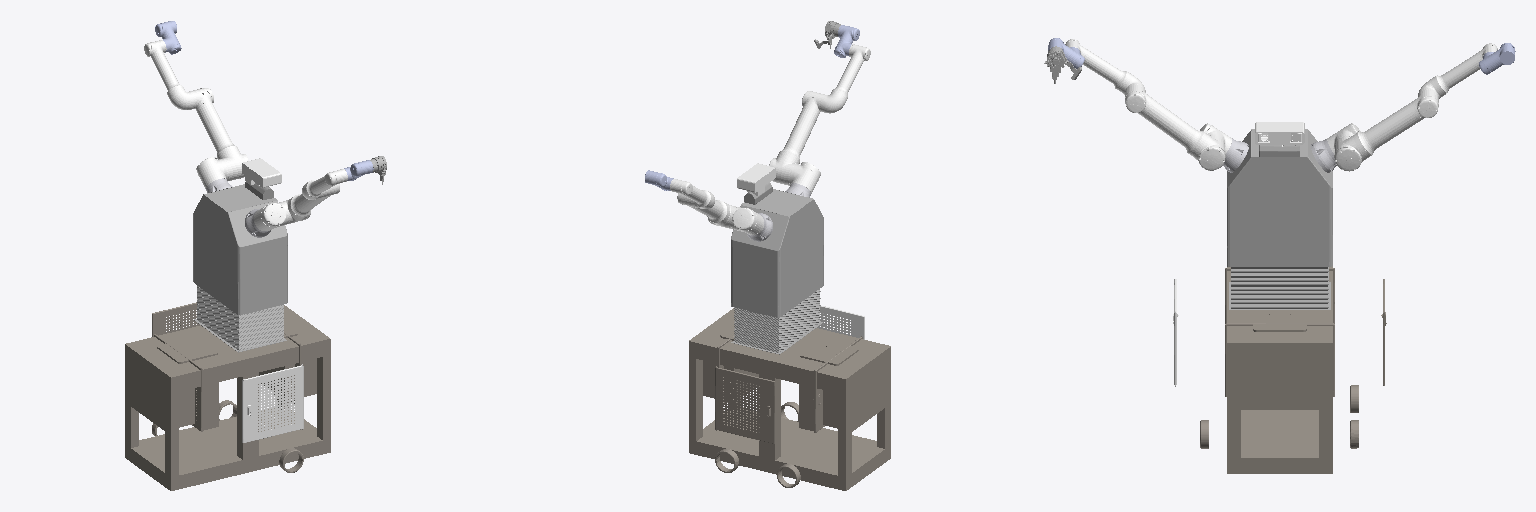
--- Facts derived from the render (not from the file) ---
3 views of the same robot in one strip: view 1: azimuth 30°, elevation 25°; view 2: azimuth 150°, elevation 25°; view 3: azimuth 270°, elevation 25° (orthographic).
Robot: dual_arm_agv — 31 links, 30 joints (17 revolute, 4 continuous, 1 prismatic, 8 fixed); root link base_link; default pose: all joints at 0.
Visible links, largest first — view 1: base_link, rl_Link, D90_Link, rr51_2_Link, rr51_3_Link, D70_Link, ca53_1_Link, lr52_2_Link, lr52_1_Link, lr52_3_Link, rr51_1_Link; view 2: base_link, rl_Link, D70_Link, lr52_2_Link, lr52_3_Link, D90_Link, ca53_1_Link, rr51_2_Link, rr51_1_Link, rr51_3_Link, lr52_1_Link, D80_Link; view 3: base_link, rl_Link, rr51_2_Link, lr52_2_Link, ca53_1_Link, rr51_3_Link, lr52_3_Link, lr52_6_Link, rr_Link, lr_Link.
Link boxes in pixels (bbox=[...]): base_link: bbox=[125, 305, 330, 490]; rl_Link: bbox=[193, 184, 287, 352]; D90_Link: bbox=[242, 364, 303, 442]; rr51_2_Link: bbox=[189, 88, 248, 180]; rr51_3_Link: bbox=[144, 40, 194, 109]; D70_Link: bbox=[152, 302, 199, 336]; ca53_1_Link: bbox=[242, 158, 281, 187]; lr52_2_Link: bbox=[279, 184, 339, 224]; lr52_1_Link: bbox=[254, 203, 287, 230]; lr52_3_Link: bbox=[302, 169, 347, 199]; rr51_1_Link: bbox=[196, 157, 228, 188]; base_link: bbox=[689, 308, 890, 490]; rl_Link: bbox=[731, 189, 823, 354]; D70_Link: bbox=[715, 366, 775, 443]; lr52_2_Link: bbox=[769, 91, 824, 185]; lr52_3_Link: bbox=[821, 44, 870, 113]; D90_Link: bbox=[817, 306, 864, 339]; ca53_1_Link: bbox=[737, 163, 775, 195]; rr51_2_Link: bbox=[677, 193, 736, 228]; rr51_1_Link: bbox=[731, 207, 763, 234]; rr51_3_Link: bbox=[670, 179, 714, 208]; lr52_1_Link: bbox=[789, 162, 820, 193]; D80_Link: bbox=[813, 336, 862, 432]; base_link: bbox=[1227, 266, 1332, 473]; rl_Link: bbox=[1227, 129, 1332, 309]; rr51_2_Link: bbox=[1334, 89, 1438, 171]; lr52_2_Link: bbox=[1125, 84, 1225, 170]; ca53_1_Link: bbox=[1255, 122, 1304, 146]; rr51_3_Link: bbox=[1418, 43, 1497, 98]; lr52_3_Link: bbox=[1065, 39, 1145, 94]; lr52_6_Link: bbox=[1044, 46, 1081, 83]; rr_Link: bbox=[1311, 139, 1336, 172]; lr_Link: bbox=[1223, 138, 1248, 172].
Bounding box of the posed robot: 1.2 × 2.66 × 2.56 m (x, y, z).
Meshes: 31 distinct files referenced, 24 mesh visuals loaded (24 binary STL); not drawn: 7 (reference not matched to a file when rendering).

URDF robot description (dual_arm_agv):
<?xml version="1.0" encoding="utf-8"?>
<!-- This URDF was automatically created by SolidWorks to URDF Exporter! Originally created by Stephen Brawner ([email redacted]) 
     Commit Version: 1.6.0-4-g7f85cfe  Build Version: 1.6.7995.38578
     For more information, please see http://wiki.ros.org/sw_urdf_exporter -->
<robot
  name="dual_arm_agv">
  <link
    name="base_link">
    <inertial>
      <origin
        xyz="-0.0546434634490409 -0.140926041721454 0.549786025749115"
        rpy="0 0 0" />
      <mass
        value="1175.8826301421" />
      <inertia
        ixx="50.0652985565659"
        ixy="-0.107488085580717"
        ixz="0.0875394642945228"
        iyy="34.5212318251515"
        iyz="0.0585357722931229"
        izz="55.6039256873972" />
    </inertial>
    <visual>
      <origin
        xyz="0 0 0"
        rpy="0 0 0" />
      <geometry>
        <mesh
          filename="package://dual_arm_agv/meshes/base_link.STL" />
      </geometry>
      <material
        name="">
        <color
          rgba="0.647058823529412 0.619607843137255 0.588235294117647 1" />
      </material>
    </visual>
    <collision>
      <origin
        xyz="0 0 0"
        rpy="0 0 0" />
      <geometry>
        <mesh
          filename="package://dual_arm_agv/meshes/base_link.STL" />
      </geometry>
    </collision>
  </link>
  <link
    name="lfu_Link">
    <inertial>
      <origin
        xyz="-0.010115 -0.014553 -0.084051"
        rpy="0 0 0" />
      <mass
        value="31.912" />
      <inertia
        ixx="0.050361"
        ixy="0.00070481"
        ixz="7.2613E-06"
        iyy="0.06568"
        iyz="-5.5391E-05"
        izz="0.070542" />
    </inertial>
    <visual>
      <origin
        xyz="0 0 0"
        rpy="0 0 0" />
      <geometry>
        <mesh
          filename="package://dual_arm_agv/meshes/lfu_Link.STL" />
      </geometry>
      <material
        name="">
        <color
          rgba="0.64706 0.61961 0.58824 1" />
      </material>
    </visual>
    <collision>
      <origin
        xyz="0 0 0"
        rpy="0 0 0" />
      <geometry>
        <mesh
          filename="package://dual_arm_agv/meshes/lfu_Link.STL" />
      </geometry>
    </collision>
  </link>
  <joint
    name="lfu_joint"
    type="revolute">
    <origin
      xyz="0.235 -0.424 0.1895"
      rpy="0 0 0" />
    <parent
      link="base_link" />
    <child
      link="lfu_Link" />
    <axis
      xyz="0 0 1" />
    <limit
      lower="0"
      upper="1.57"
      effort="200"
      velocity="2" />
  </joint>
  <link
    name="lfd_Link">
    <inertial>
      <origin
        xyz="-9.99200722162641E-16 -3.60267371490863E-14 2.41473507855972E-15"
        rpy="0 0 0" />
      <mass
        value="2.27437869372106" />
      <inertia
        ixx="0.00667217333183963"
        ixy="8.44588831684433E-17"
        ixz="-3.51234122980116E-19"
        iyy="0.0124275466946376"
        iyz="-2.20233879862675E-18"
        izz="0.00667217333183963" />
    </inertial>
    <visual>
      <origin
        xyz="0 0 0"
        rpy="0 0 0" />
      <geometry>
        <mesh
          filename="package://dual_arm_agv/meshes/lfd_Link.STL" />
      </geometry>
      <material
        name="">
        <color
          rgba="0.647058823529412 0.619607843137255 0.588235294117647 1" />
      </material>
    </visual>
    <collision>
      <origin
        xyz="0 0 0"
        rpy="0 0 0" />
      <geometry>
        <mesh
          filename="package://dual_arm_agv/meshes/lfd_Link.STL" />
      </geometry>
    </collision>
  </link>
  <joint
    name="lfd_joint"
    type="continuous">
    <origin
      xyz="0 0 -0.112"
      rpy="0 0 0" />
    <parent
      link="lfu_Link" />
    <child
      link="lfd_Link" />
    <axis
      xyz="0 1 0" />
    <limit
      lower="100000"
      upper="-100000"
      effort="200"
      velocity="2" />
  </joint>
  <link
    name="lbu_Link">
    <inertial>
      <origin
        xyz="0.0101145407284515 0.0145528089723998 -0.0845514626141467"
        rpy="0 0 0" />
      <mass
        value="31.9115144089676" />
      <inertia
        ixx="0.0503611728601749"
        ixy="0.000704812025816372"
        ixz="-7.26128769723982E-06"
        iyy="0.065680340100723"
        iyz="5.53905773361375E-05"
        izz="0.0705417283250844" />
    </inertial>
    <visual>
      <origin
        xyz="0 0 0"
        rpy="0 0 0" />
      <geometry>
        <mesh
          filename="package://dual_arm_agv/meshes/lbu_Link.STL" />
      </geometry>
      <material
        name="">
        <color
          rgba="0.647058823529412 0.619607843137255 0.588235294117647 1" />
      </material>
    </visual>
    <collision>
      <origin
        xyz="0 0 0"
        rpy="0 0 0" />
      <geometry>
        <mesh
          filename="package://dual_arm_agv/meshes/lbu_Link.STL" />
      </geometry>
    </collision>
  </link>
  <joint
    name="lbu_joint"
    type="revolute">
    <origin
      xyz="-0.23499999999994 -0.423999999999996 0.189999999999993"
      rpy="0 0 0" />
    <parent
      link="base_link" />
    <child
      link="lbu_Link" />
    <axis
      xyz="0 0 1" />
    <limit
      lower="-1.57"
      upper="0"
      effort="200"
      velocity="2" />
  </joint>
  <link
    name="lbd_Link">
    <inertial>
      <origin
        xyz="2.91433543964104E-15 4.13002965160558E-14 2.26207941267376E-15"
        rpy="0 0 0" />
      <mass
        value="2.27437869372106" />
      <inertia
        ixx="0.00667217333183963"
        ixy="-5.56023405418499E-16"
        ixz="2.00899450894819E-18"
        iyy="0.0124275466946376"
        iyz="-3.97885499432362E-16"
        izz="0.00667217333183963" />
    </inertial>
    <visual>
      <origin
        xyz="0 0 0"
        rpy="0 0 0" />
      <geometry>
        <mesh
          filename="package://dual_arm_agv/meshes/lbd_Link.STL" />
      </geometry>
      <material
        name="">
        <color
          rgba="0.647058823529412 0.619607843137255 0.588235294117647 1" />
      </material>
    </visual>
    <collision>
      <origin
        xyz="0 0 0"
        rpy="0 0 0" />
      <geometry>
        <mesh
          filename="package://dual_arm_agv/meshes/lbd_Link.STL" />
      </geometry>
    </collision>
  </link>
  <joint
    name="lbd_joint"
    type="continuous">
    <origin
      xyz="0 0 -0.112500000000002"
      rpy="0 0 0" />
    <parent
      link="lbu_Link" />
    <child
      link="lbd_Link" />
    <axis
      xyz="0 -1 0" />
    <limit
      lower="100000"
      upper="-100000"
      effort="200"
      velocity="2" />
  </joint>
  <link
    name="rfu_Link">
    <inertial>
      <origin
        xyz="-0.0101145407285348 -0.0145528089723641 -0.084051462614141"
        rpy="0 0 0" />
      <mass
        value="31.9115144089675" />
      <inertia
        ixx="0.050361172860175"
        ixy="0.00070481202581808"
        ixz="7.26128770039667E-06"
        iyy="0.0656803401007229"
        iyz="-5.53905773355691E-05"
        izz="0.0705417283250845" />
    </inertial>
    <visual>
      <origin
        xyz="0 0 0"
        rpy="0 0 0" />
      <geometry>
        <mesh
          filename="package://dual_arm_agv/meshes/rfu_Link.STL" />
      </geometry>
      <material
        name="">
        <color
          rgba="0.647058823529412 0.619607843137255 0.588235294117647 1" />
      </material>
    </visual>
    <collision>
      <origin
        xyz="0 0 0"
        rpy="0 0 0" />
      <geometry>
        <mesh
          filename="package://dual_arm_agv/meshes/rfu_Link.STL" />
      </geometry>
    </collision>
  </link>
  <joint
    name="rfu_joint"
    type="revolute">
    <origin
      xyz="0.235000000000055 0.423999999999963 0.189499999999998"
      rpy="0 0 0" />
    <parent
      link="base_link" />
    <child
      link="rfu_Link" />
    <axis
      xyz="0 0 1" />
    <limit
      lower="0"
      upper="1.57"
      effort="200"
      velocity="2" />
  </joint>
  <link
    name="rfd_Link">
    <inertial>
      <origin
        xyz="-9.99200722162641E-16 -4.39093206239249E-14 4.13558076672871E-15"
        rpy="0 0 0" />
      <mass
        value="2.27437869372106" />
      <inertia
        ixx="0.00667217333183963"
        ixy="8.27714542196001E-17"
        ixz="6.16253967979071E-19"
        iyy="0.0124275466946376"
        iyz="-4.04094379555745E-16"
        izz="0.00667217333183963" />
    </inertial>
    <visual>
      <origin
        xyz="0 0 0"
        rpy="0 0 0" />
      <geometry>
        <mesh
          filename="package://dual_arm_agv/meshes/rfd_Link.STL" />
      </geometry>
      <material
        name="">
        <color
          rgba="0.647058823529412 0.619607843137255 0.588235294117647 1" />
      </material>
    </visual>
    <collision>
      <origin
        xyz="0 0 0"
        rpy="0 0 0" />
      <geometry>
        <mesh
          filename="package://dual_arm_agv/meshes/rfd_Link.STL" />
      </geometry>
    </collision>
  </link>
  <joint
    name="rfd_joint"
    type="continuous">
    <origin
      xyz="0 0 -0.112000000000002"
      rpy="0 0 0" />
    <parent
      link="rfu_Link" />
    <child
      link="rfd_Link" />
    <axis
      xyz="0 1 0" />
    <limit
      lower="100000"
      upper="-100000"
      effort="200"
      velocity="2" />
  </joint>
  <link
    name="rbu_Link">
    <inertial>
      <origin
        xyz="0.0101145407285198 0.0145528089723539 -0.0840514626141447"
        rpy="0 0 0" />
      <mass
        value="31.9115144089676" />
      <inertia
        ixx="0.0503611728601749"
        ixy="0.000704812025816368"
        ixz="-7.26128769725194E-06"
        iyy="0.0656803401007231"
        iyz="5.53905773361204E-05"
        izz="0.0705417283250845" />
    </inertial>
    <visual>
      <origin
        xyz="0 0 0"
        rpy="0 0 0" />
      <geometry>
        <mesh
          filename="package://dual_arm_agv/meshes/rbu_Link.STL" />
      </geometry>
      <material
        name="">
        <color
          rgba="0.647058823529412 0.619607843137255 0.588235294117647 1" />
      </material>
    </visual>
    <collision>
      <origin
        xyz="0 0 0"
        rpy="0 0 0" />
      <geometry>
        <mesh
          filename="package://dual_arm_agv/meshes/rbu_Link.STL" />
      </geometry>
    </collision>
  </link>
  <joint
    name="rbu_joint"
    type="revolute">
    <origin
      xyz="-0.235000000000009 0.42400000000005 0.189500000000171"
      rpy="0 0 0" />
    <parent
      link="base_link" />
    <child
      link="rbu_Link" />
    <axis
      xyz="0 0 1" />
    <limit
      lower="-1.57"
      upper="0"
      effort="200"
      velocity="2" />
  </joint>
  <link
    name="rbd_Link">
    <inertial>
      <origin
        xyz="2.88657986402541E-15 4.09672296086683E-14 2.26207941267376E-15"
        rpy="0 0 0" />
      <mass
        value="2.27437869372106" />
      <inertia
        ixx="0.00667217333183963"
        ixy="-5.55904291410291E-16"
        ixz="6.55722615167524E-20"
        iyy="0.0124275466946376"
        iyz="-3.97308458237045E-16"
        izz="0.00667217333183963" />
    </inertial>
    <visual>
      <origin
        xyz="0 0 0"
        rpy="0 0 0" />
      <geometry>
        <mesh
          filename="package://dual_arm_agv/meshes/rbd_Link.STL" />
      </geometry>
      <material
        name="">
        <color
          rgba="0.647058823529412 0.619607843137255 0.588235294117647 1" />
      </material>
    </visual>
    <collision>
      <origin
        xyz="0 0 0"
        rpy="0 0 0" />
      <geometry>
        <mesh
          filename="package://dual_arm_agv/meshes/rbd_Link.STL" />
      </geometry>
    </collision>
  </link>
  <joint
    name="rbd_joint"
    type="continuous">
    <origin
      xyz="0 0 -0.112"
      rpy="0 0 0" />
    <parent
      link="rbu_Link" />
    <child
      link="rbd_Link" />
    <axis
      xyz="0 -1 0" />
    <limit
      lower="100000"
      upper="100000"
      effort="200"
      velocity="2" />
  </joint>
  <link
    name="rl_Link">
    <inertial>
      <origin
        xyz="0.011375 -2.1798E-05 0.57403"
        rpy="0 0 0" />
      <mass
        value="55" />
      <inertia
        ixx="1.6103"
        ixy="3.4785E-05"
        ixz="-4.5945E-07"
        iyy="1.2469"
        iyz="-5.1281E-09"
        izz="1.7916" />
    </inertial>
    <visual>
      <origin
        xyz="0 0 0"
        rpy="0 0 0" />
      <geometry>
        <mesh
          filename="package://dual_arm_agv/meshes/rl_Link.STL" />
      </geometry>
      <material
        name="">
        <color
          rgba="0.75294 0.75294 0.75294 1" />
      </material>
    </visual>
    <collision>
      <origin
        xyz="0 0 0"
        rpy="0 0 0" />
      <geometry>
        <mesh
          filename="package://dual_arm_agv/meshes/rl_Link.STL" />
      </geometry>
    </collision>
  </link>
  <joint
    name="rl_joint"
    type="prismatic">
    <origin
      xyz="0.0960000000000005 0 0.873499999998258"
      rpy="0 0 0" />
    <parent
      link="base_link" />
    <child
      link="rl_Link" />
    <axis
      xyz="0 0 1" />
    <limit
      lower="-0.2"
      upper="0"
      effort="2000"
      velocity="1" />
  </joint>
  <link
    name="rr_Link">
    <inertial>
      <origin
        xyz="0.00022783 -0.0019463 0.065974"
        rpy="0 0 0" />
      <mass
        value="1" />
      <inertia
        ixx="0.0070805"
        ixy="2.5698E-06"
        ixz="7.7185E-06"
        iyy="0.0079941"
        iyz="1.4118E-05"
        izz="0.010775" />
    </inertial>
    <visual>
      <origin
        xyz="0 0 0"
        rpy="0 0 0" />
      <geometry>
        <mesh
          filename="package://dual_arm_agv/meshes/rr_Link.STL" />
      </geometry>
      <material
        name="">
        <color
          rgba="0.86667 0.86667 0.8902 1" />
      </material>
    </visual>
    <collision>
      <origin
        xyz="0 0 0"
        rpy="0 0 0" />
      <geometry>
        <mesh
          filename="package://dual_arm_agv/meshes/rr_Link.STL" />
      </geometry>
    </collision>
  </link>
  <joint
    name="rr_joint"
    type="fixed">
    <origin
      xyz="-0.00012323 0.22915 0.85641"
      rpy="-0.95993 0 0" />
    <parent
      link="rl_Link" />
    <child
      link="rr_Link" />
    <axis
      xyz="0 0 0" />
  </joint>
  <link
    name="rr51_1_Link">
    <inertial>
      <origin
        xyz="0.010199 8.5898E-06 0.087734"
        rpy="0 0 0" />
      <mass
        value="7" />
      <inertia
        ixx="0.010978"
        ixy="-5.0404E-08"
        ixz="-0.0014505"
        iyy="0.011748"
        iyz="-5.1519E-07"
        izz="0.011872" />
    </inertial>
    <visual>
      <origin
        xyz="0 0 0"
        rpy="0 0 0" />
      <geometry>
        <mesh
          filename="package://dual_arm_agv/meshes/rr51_1_Link.STL" />
      </geometry>
      <material
        name="">
        <color
          rgba="1 1 1 1" />
      </material>
    </visual>
    <collision>
      <origin
        xyz="0 0 0"
        rpy="0 0 0" />
      <geometry>
        <mesh
          filename="package://dual_arm_agv/meshes/rr51_1_Link.STL" />
      </geometry>
    </collision>
  </link>
  <joint
    name="rr51_1_joint"
    type="revolute">
    <origin
      xyz="0.00012323 -0.0020049 0.1015"
      rpy="0 0 0" />
    <parent
      link="rr_Link" />
    <child
      link="rr51_1_Link" />
    <axis
      xyz="0 0 1" />
    <limit
      lower="-6.28"
      upper="6.28"
      effort="330"
      velocity="2.09" />
  </joint>
  <link
    name="rr51_2_Link">
    <inertial>
      <origin
        xyz="0.090301 -3.5178E-06 0.22698"
        rpy="0 0 0" />
      <mass
        value="13" />
      <inertia
        ixx="0.082583"
        ixy="6.5524E-07"
        ixz="-0.0010301"
        iyy="0.082438"
        iyz="-7.9932E-08"
        izz="0.023126" />
    </inertial>
    <visual>
      <origin
        xyz="0 0 0"
        rpy="0 0 0" />
      <geometry>
        <mesh
          filename="package://dual_arm_agv/meshes/rr51_2_Link.STL" />
      </geometry>
      <material
        name="">
        <color
          rgba="1 1 1 1" />
      </material>
    </visual>
    <collision>
      <origin
        xyz="0 0 0"
        rpy="0 0 0" />
      <geometry>
        <mesh
          filename="package://dual_arm_agv/meshes/rr51_2_Link.STL" />
      </geometry>
    </collision>
  </link>
  <joint
    name="rr51_2_joint"
    type="revolute">
    <origin
      xyz="0.0890000000000001 0 0.0914999999594877"
      rpy="0 0 0" />
    <parent
      link="rr51_1_Link" />
    <child
      link="rr51_2_Link" />
    <axis
      xyz="-1 0 0" />
    <limit
      lower="-6.28"
      upper="6.28"
      effort="330"
      velocity="2.09" />
  </joint>
  <link
    name="rr51_3_Link">
    <inertial>
      <origin
        xyz="-0.064682 3.2761E-06 0.19279"
        rpy="0 0 0" />
      <mass
        value="5" />
      <inertia
        ixx="0.021"
        ixy="2.6948E-07"
        ixz="0.00034616"
        iyy="0.021426"
        iyz="9.0171E-08"
        izz="0.005715" />
    </inertial>
    <visual>
      <origin
        xyz="0 0 0"
        rpy="0 0 0" />
      <geometry>
        <mesh
          filename="package://dual_arm_agv/meshes/rr51_3_Link.STL" />
      </geometry>
      <material
        name="">
        <color
          rgba="1 1 1 1" />
      </material>
    </visual>
    <collision>
      <origin
        xyz="0 0 0"
        rpy="0 0 0" />
      <geometry>
        <mesh
          filename="package://dual_arm_agv/meshes/rr51_3_Link.STL" />
      </geometry>
    </collision>
  </link>
  <joint
    name="rr51_3_joint"
    type="revolute">
    <origin
      xyz="0.0209 0 0.552"
      rpy="0 0 0" />
    <parent
      link="rr51_2_Link" />
    <child
      link="rr51_3_Link" />
    <axis
      xyz="1 0 0" />
    <limit
      lower="-6.28"
      upper="6.28"
      effort="150"
      velocity="3.14" />
  </joint>
  <link
    name="rr51_4_Link">
    <inertial>
      <origin
        xyz="0.059008 -4.404E-06 0.0041118"
        rpy="0 0 0" />
      <mass
        value="2.5" />
      <inertia
        ixx="0.0011355"
        ixy="-3.2843E-08"
        ixz="-0.00019671"
        iyy="0.0014297"
        iyz="-7.2079E-08"
        izz="0.0012242" />
    </inertial>
    <visual>
      <origin
        xyz="0 0 0"
        rpy="0 0 0" />
      <geometry>
        <mesh
          filename="package://dual_arm_agv/meshes/rr51_4_Link.STL" />
      </geometry>
      <material
        name="">
        <color
          rgba="0.79216 0.81961 0.93333 1" />
      </material>
    </visual>
    <collision>
      <origin
        xyz="0 0 0"
        rpy="0 0 0" />
      <geometry>
        <mesh
          filename="package://dual_arm_agv/meshes/rr51_4_Link.STL" />
      </geometry>
    </collision>
  </link>
  <joint
    name="rr51_4_joint"
    type="revolute">
    <origin
      xyz="-0.00310000000000107 0 0.43"
      rpy="0 0 0" />
    <parent
      link="rr51_3_Link" />
    <child
      link="rr51_4_Link" />
    <axis
      xyz="-1 0 0" />
    <limit
      lower="-6.28"
      upper="6.28"
      effort="56"
      velocity="3.14" />
  </joint>
  <link
    name="rr51_5_Link">
    <inertial>
      <origin
        xyz="0.0047051 3.3422E-06 0.046075"
        rpy="0 0 0" />
      <mass
        value="2.5" />
      <inertia
        ixx="0.00086957"
        ixy="4.928E-08"
        ixz="-0.00011863"
        iyy="0.0010543"
        iyz="3.0071E-08"
        izz="0.0010022" />
    </inertial>
    <visual>
      <origin
        xyz="0 0 0"
        rpy="0 0 0" />
      <geometry>
        <mesh
          filename="package://dual_arm_agv/meshes/rr51_5_Link.STL" />
      </geometry>
      <material
        name="">
        <color
          rgba="0.79216 0.81961 0.93333 1" />
      </material>
    </visual>
    <collision>
      <origin
        xyz="0 0 0"
        rpy="0 0 0" />
      <geometry>
        <mesh
          filename="package://dual_arm_agv/meshes/rr51_5_Link.STL" />
      </geometry>
    </collision>
  </link>
  <joint
    name="rr51_5_joint"
    type="revolute">
    <origin
      xyz="0.0707 0 0.0672999999999995"
      rpy="0 0 0" />
    <parent
      link="rr51_4_Link" />
    <child
      link="rr51_5_Link" />
    <axis
      xyz="0 0 -1" />
    <limit
      lower="-6.28"
      upper="6.28"
      effort="56"
      velocity="3.14" />
  </joint>
  <link
    name="rr51_6_Link">
    <inertial>
      <origin
        xyz="0.069257 -0.00041878 -0.039816"
        rpy="0 0 0" />
      <mass
        value="5" />
      <inertia
        ixx="0.0016171"
        ixy="3.8628E-06"
        ixz="9.042E-05"
        iyy="0.0009906"
        iyz="2.0396E-06"
        izz="0.0010159" />
    </inertial>
    <visual>
      <origin
        xyz="0 0 0"
        rpy="0 0 0" />
      <geometry>
        <mesh
          filename="package://dual_arm_agv/meshes/rr51_6_Link.STL" />
      </geometry>
      <material
        name="">
        <color
          rgba="0.75294 0.75294 0.75294 1" />
      </material>
    </visual>
    <collision>
      <origin
        xyz="0 0 0"
        rpy="0 0 0" />
      <geometry>
        <mesh
          filename="package://dual_arm_agv/meshes/rr51_6_Link.STL" />
      </geometry>
    </collision>
  </link>
  <joint
    name="rr51_6_joint"
    type="revolute">
    <origin
      xyz="0.0673 0 0.0507"
      rpy="0 0 0" />
    <parent
      link="rr51_5_Link" />
    <child
      link="rr51_6_Link" />
    <axis
      xyz="-1 0 0" />
    <limit
      lower="-6.28"
      upper="6.28"
      effort="56"
      velocity="3.14" />
  </joint>
  <link
    name="lr_Link">
    <inertial>
      <origin
        xyz="-0.00022783 0.0019463 0.065974"
        rpy="0 0 0" />
      <mass
        value="1" />
      <inertia
        ixx="0.0070805"
        ixy="2.5698E-06"
        ixz="-7.7185E-06"
        iyy="0.0079941"
        iyz="-1.4118E-05"
        izz="0.010775" />
    </inertial>
    <visual>
      <origin
        xyz="0 0 0"
        rpy="0 0 0" />
      <geometry>
        <mesh
          filename="package://dual_arm_agv/meshes/lr_Link.STL" />
      </geometry>
      <material
        name="">
        <color
          rgba="0.86667 0.86667 0.8902 1" />
      </material>
    </visual>
    <collision>
      <origin
        xyz="0 0 0"
        rpy="0 0 0" />
      <geometry>
        <mesh
          filename="package://dual_arm_agv/meshes/lr_Link.STL" />
      </geometry>
    </collision>
  </link>
  <joint
    name="lr_joint"
    type="fixed">
    <origin
      xyz="0.000123229452190537 -0.229150687564198 0.856411088614571"
      rpy="0.959931088596884 0 0" />
    <parent
      link="rl_Link" />
    <child
      link="lr_Link" />
    <axis
      xyz="0 0 0" />
  </joint>
  <link
    name="lr52_1_Link">
    <inertial>
      <origin
        xyz="0.010196 0.00024883 0.087734"
        rpy="0 0 0" />
      <mass
        value="7" />
      <inertia
        ixx="0.010978"
        ixy="-1.8189E-05"
        ixz="-0.0014501"
        iyy="0.011747"
        iyz="-3.4685E-05"
        izz="0.011872" />
    </inertial>
    <visual>
      <origin
        xyz="0 0 0"
        rpy="0 0 0" />
      <geometry>
        <mesh
          filename="package://dual_arm_agv/meshes/lr52_1_Link.STL" />
      </geometry>
      <material
        name="">
        <color
          rgba="1 1 1 1" />
      </material>
    </visual>
    <collision>
      <origin
        xyz="0 0 0"
        rpy="0 0 0" />
      <geometry>
        <mesh
          filename="package://dual_arm_agv/meshes/lr52_1_Link.STL" />
      </geometry>
    </collision>
  </link>
  <joint
    name="lr52_1_joint"
    type="revolute">
    <origin
      xyz="-0.000123229452184834 0.00200490098353279 0.1015"
      rpy="0 0 0" />
    <parent
      link="lr_Link" />
    <child
      link="lr52_1_Link" />
    <axis
      xyz="0 0 -1" />
    <limit
      lower="-6.28"
      upper="6.28"
      effort="330"
      velocity="2.09" />
  </joint>
  <link
    name="lr52_2_Link">
    <inertial>
      <origin
        xyz="0.089949 0.01599 0.22655"
        rpy="0 0 0" />
      <mass
        value="13" />
      <inertia
        ixx="0.082586"
        ixy="-5.3599E-05"
        ixz="-0.00094276"
        iyy="0.082214"
        iyz="-0.003641"
        izz="0.023347" />
    </inertial>
    <visual>
      <origin
        xyz="0 0 0"
        rpy="0 0 0" />
      <geometry>
        <mesh
          filename="package://dual_arm_agv/meshes/lr52_2_Link.STL" />
      </geometry>
      <material
        name="">
        <color
          rgba="1 1 1 1" />
      </material>
    </visual>
    <collision>
      <origin
        xyz="0 0 0"
        rpy="0 0 0" />
      <geometry>
        <mesh
          filename="package://dual_arm_agv/meshes/lr52_2_Link.STL" />
      </geometry>
    </collision>
  </link>
  <joint
    name="lr52_2_joint"
    type="revolute">
    <origin
      xyz="0.0889753014963543 0.00209659810954865 0.0914999999594877"
      rpy="0 0 0" />
    <parent
      link="lr52_1_Link" />
    <child
      link="lr52_2_Link" />
    <axis
      xyz="-0.999722488723076 -0.0235572821297236 0" />
    <limit
      lower="-6.28"
      upper="6.28"
      effort="330"
      velocity="2.09" />
  </joint>
  <link
    name="lr52_3_Link">
    <inertial>
      <origin
        xyz="-0.064653 -0.0019976 0.19279"
        rpy="0 0 0" />
      <mass
        value="5" />
      <inertia
        ixx="0.021"
        ixy="-1.0611E-05"
        ixz="0.00034515"
        iyy="0.021426"
        iyz="4.7138E-05"
        izz="0.0057151" />
    </inertial>
    <visual>
      <origin
        xyz="0 0 0"
        rpy="0 0 0" />
      <geometry>
        <mesh
          filename="package://dual_arm_agv/meshes/lr52_3_Link.STL" />
      </geometry>
      <material
        name="">
        <color
          rgba="1 1 1 1" />
      </material>
    </visual>
    <collision>
      <origin
        xyz="0 0 0"
        rpy="0 0 0" />
      <geometry>
        <mesh
          filename="package://dual_arm_agv/meshes/lr52_3_Link.STL" />
      </geometry>
    </collision>
  </link>
  <joint
    name="lr52_3_joint"
    type="revolute">
    <origin
      xyz="0.0200995749625797 0.0342149204708231 0.550968380783132"
      rpy="0 0 0" />
    <parent
      link="lr52_2_Link" />
    <child
      link="lr52_3_Link" />
    <axis
      xyz="0.999722488723076 0.0235572821297233 0" />
    <limit
      lower="-6.28"
      upper="6.28"
      effort="150"
      velocity="3.14" />
  </joint>
  <link
    name="lr52_4_Link">
    <inertial>
      <origin
        xyz="0.058991 0.0014258 0.0041117"
        rpy="0 0 0" />
      <mass
        value="2.5" />
      <inertia
        ixx="0.0011357"
        ixy="-8.8727E-06"
        ixz="-0.0001966"
        iyy="0.0014294"
        iyz="-6.7081E-06"
        izz="0.0012242" />
    </inertial>
    <visual>
      <origin
        xyz="0 0 0"
        rpy="0 0 0" />
      <geometry>
        <mesh
          filename="package://dual_arm_agv/meshes/lr52_4_Link.STL" />
      </geometry>
      <material
        name="">
        <color
          rgba="0.79216 0.81961 0.93333 1" />
      </material>
    </visual>
    <collision>
      <origin
        xyz="0 0 0"
        rpy="0 0 0" />
      <geometry>
        <mesh
          filename="package://dual_arm_agv/meshes/lr52_4_Link.STL" />
      </geometry>
    </collision>
  </link>
  <joint
    name="lr52_4_joint"
    type="revolute">
    <origin
      xyz="-0.00307405869307162 -0.00113741444089799 0.429998681918377"
      rpy="0 0 0" />
    <parent
      link="lr52_3_Link" />
    <child
      link="lr52_4_Link" />
    <axis
      xyz="-0.999722488723076 -0.0235572821297229 0" />
    <limit
      lower="-6.28"
      upper="6.28"
      effort="56"
      velocity="3.14" />
  </joint>
  <link
    name="lr52_5_Link">
    <inertial>
      <origin
        xyz="0.0046942 0.00039227 0.046075"
        rpy="0 0 0" />
      <mass
        value="2.5" />
      <inertia
        ixx="0.00086966"
        ixy="1.2453E-06"
        ixz="-0.00011867"
        iyy="0.0010543"
        iyz="1.0341E-06"
        izz="0.0010022" />
    </inertial>
    <visual>
      <origin
        xyz="0 0 0"
        rpy="0 0 0" />
      <geometry>
        <mesh
          filename="package://dual_arm_agv/meshes/lr52_5_Link.STL" />
      </geometry>
      <material
        name="">
        <color
          rgba="0.79216 0.81961 0.93333 1" />
      </material>
    </visual>
    <collision>
      <origin
        xyz="0 0 0"
        rpy="0 0 0" />
      <geometry>
        <mesh
          filename="package://dual_arm_agv/meshes/lr52_5_Link.STL" />
      </geometry>
    </collision>
  </link>
  <joint
    name="lr52_5_joint"
    type="revolute">
    <origin
      xyz="0.0706649385463499 0.00232080129950818 0.0672968078111333"
      rpy="0 0 0" />
    <parent
      link="lr52_4_Link" />
    <child
      link="lr52_5_Link" />
    <axis
      xyz="0.000229441402247066 -0.00973702010304689 -0.99995256777317" />
    <limit
      lower="-6.28"
      upper="6.28"
      effort="56"
      velocity="3.14" />
  </joint>
  <link
    name="lr52_6_Link">
    <inertial>
      <origin
        xyz="0.069088 -0.0015473 -0.038484"
        rpy="0 0 0" />
      <mass
        value="5" />
      <inertia
        ixx="0.0016017"
        ixy="-1.0666E-05"
        ixz="9.0935E-05"
        iyy="0.00097847"
        iyz="3.8828E-06"
        izz="0.0010111" />
    </inertial>
    <visual>
      <origin
        xyz="0 0 0"
        rpy="0 0 0" />
      <geometry>
        <mesh
          filename="package://dual_arm_agv/meshes/lr52_6_Link.STL" />
      </geometry>
      <material
        name="">
        <color
          rgba="0.75294 0.75294 0.75294 1" />
      </material>
    </visual>
    <collision>
      <origin
        xyz="0 0 0"
        rpy="0 0 0" />
      <geometry>
        <mesh
          filename="package://dual_arm_agv/meshes/lr52_6_Link.STL" />
      </geometry>
    </collision>
  </link>
  <joint
    name="lr52_6_joint"
    type="revolute">
    <origin
      xyz="0.067283 -0.00036262 0.050721"
      rpy="0 0 0" />
    <parent
      link="lr52_5_Link" />
    <child
      link="lr52_6_Link" />
    <axis
      xyz="-0.99992 0.012723 -0.00035333" />
    <limit
      lower="-6.28"
      upper="6.28"
      effort="56"
      velocity="3.14" />
  </joint>
  <link
    name="ca_Link">
    <inertial>
      <origin
        xyz="-0.000463 -0.0009668 0.029487"
        rpy="0 0 0" />
      <mass
        value="1.2825" />
      <inertia
        ixx="0.0031185"
        ixy="-3.8839E-10"
        ixz="-2.4747E-12"
        iyy="0.0015044"
        iyz="-3.306E-05"
        izz="0.0037455" />
    </inertial>
    <visual>
      <origin
        xyz="0 0 0"
        rpy="0 0 0" />
      <geometry>
        <mesh
          filename="package://dual_arm_agv/meshes/ca_Link.STL" />
      </geometry>
      <material
        name="">
        <color
          rgba="0.68627 0.68627 0.68627 1" />
      </material>
    </visual>
    <collision>
      <origin
        xyz="0 0 0"
        rpy="0 0 0" />
      <geometry>
        <mesh
          filename="package://dual_arm_agv/meshes/ca_Link.STL" />
      </geometry>
    </collision>
  </link>
  <joint
    name="ca_joint"
    type="fixed">
    <origin
      xyz="0.145800000000001 0.000286249411440011 0.95399999999999"
      rpy="0 0 0" />
    <parent
      link="rl_Link" />
    <child
      link="ca_Link" />
    <axis
      xyz="0 0 0" />
  </joint>
  <link
    name="ca53_1_Link">
    <inertial>
      <origin
        xyz="-0.024741 -0.046631 0.074487"
        rpy="0 0 0" />
      <mass
        value="1.4316" />
      <inertia
        ixx="0.0092213"
        ixy="-1.0432E-05"
        ixz="1.287E-05"
        iyy="0.0018554"
        iyz="0.00038467"
        izz="0.0086375" />
    </inertial>
    <visual>
      <origin
        xyz="0 0 0"
        rpy="0 0 0" />
      <geometry>
        <mesh
          filename="package://dual_arm_agv/meshes/ca53_1_Link.STL" />
      </geometry>
      <material
        name="">
        <color
          rgba="1 1 1 1" />
      </material>
    </visual>
    <collision>
      <origin
        xyz="0 0 0"
        rpy="0 0 0" />
      <geometry>
        <mesh
          filename="package://dual_arm_agv/meshes/ca53_1_Link.STL" />
      </geometry>
    </collision>
  </link>
  <joint
    name="ca53_1_joint"
    type="revolute">
    <origin
      xyz="2.30763708800874E-05 0.0547137505885594 0.0439999999999994"
      rpy="0 0 0" />
    <parent
      link="ca_Link" />
    <child
      link="ca53_1_Link" />
    <axis
      xyz="0 -1 0" />
    <limit
      lower="-0.26"
      upper="0.26"
      effort="5"
      velocity="0.5" />
  </joint>
  <link
    name="tool_Link">
    <inertial>
      <origin
        xyz="-0.00356882850400677 0.000709076959476059 0.0487500748788088"
        rpy="0 0 0" />
      <mass
        value="11.75843532913" />
      <inertia
        ixx="0.0584178676002609"
        ixy="-0.000111511984472361"
        ixz="-0.000119119551942205"
        iyy="0.0230578782046913"
        iyz="3.57412909935255E-05"
        izz="0.0773434041058689" />
    </inertial>
    <visual>
      <origin
        xyz="0 0 0"
        rpy="0 0 0" />
      <geometry>
        <mesh
          filename="package://dual_arm_agv/meshes/tool_Link.STL" />
      </geometry>
      <material
        name="">
        <color
          rgba="0.752941176470588 0.752941176470588 0.752941176470588 1" />
      </material>
    </visual>
    <collision>
      <origin
        xyz="0 0 0"
        rpy="0 0 0" />
      <geometry>
        <mesh
          filename="package://dual_arm_agv/meshes/tool_Link.STL" />
      </geometry>
    </collision>
  </link>
  <joint
    name="tool_joint"
    type="fixed">
    <origin
      xyz="-0.088937 0 0.954"
      rpy="0 0 0" />
    <parent
      link="rl_Link" />
    <child
      link="tool_Link" />
    <axis
      xyz="0 0 0" />
  </joint>
  <link
    name="D60_Link">
    <inertial>
      <origin
        xyz="0.00443799617964469 0.301954815187787 0.22850978539645"
        rpy="0 0 0" />
      <mass
        value="3.93841478218306" />
      <inertia
        ixx="0.214379019342269"
        ixy="6.52030220763405E-06"
        ixz="1.11907011719253E-06"
        iyy="0.077094222008129"
        iyz="-5.34286116053827E-07"
        izz="0.137379578908589" />
    </inertial>
    <visual>
      <origin
        xyz="0 0 0"
        rpy="0 0 0" />
      <geometry>
        <mesh
          filename="package://dual_arm_agv/meshes/D60_Link.STL" />
      </geometry>
      <material
        name="">
        <color
          rgba="0.647058823529412 0.619607843137255 0.588235294117647 1" />
      </material>
    </visual>
    <collision>
      <origin
        xyz="0 0 0"
        rpy="0 0 0" />
      <geometry>
        <mesh
          filename="package://dual_arm_agv/meshes/D60_Link.STL" />
      </geometry>
    </collision>
  </link>
  <joint
    name="D60_Joint"
    type="fixed">
    <origin
      xyz="0.37 -0.3035 0.375"
      rpy="0 0 0" />
    <parent
      link="base_link" />
    <child
      link="D60_Link" />
    <axis
      xyz="0 0 0" />
    <limit
      lower="0"
      upper="0"
      effort="0"
      velocity="0" />
  </joint>
  <link
    name="D70_Link">
    <inertial>
      <origin
        xyz="-0.221002693294802 0.00415481920306415 0.228513991083379"
        rpy="0 0 0" />
      <mass
        value="2.75453651082183" />
      <inertia
        ixx="0.0553970787217203"
        ixy="8.35835610306022E-07"
        ixz="5.28962760864844E-07"
        iyy="0.110749633573368"
        iyz="1.11907011733821E-06"
        izz="0.0554303864118711" />
    </inertial>
    <visual>
      <origin
        xyz="0 0 0"
        rpy="0 0 0" />
      <geometry>
        <mesh
          filename="package://dual_arm_agv/meshes/D70_Link.STL" />
      </geometry>
      <material
        name="">
        <color
          rgba="0.647058823529412 0.619607843137255 0.588235294117647 1" />
      </material>
    </visual>
    <collision>
      <origin
        xyz="0 0 0"
        rpy="0 0 0" />
      <geometry>
        <mesh
          filename="package://dual_arm_agv/meshes/D70_Link.STL" />
      </geometry>
    </collision>
  </link>
  <joint
    name="D70_Joint"
    type="fixed">
    <origin
      xyz="0.221 0.59 0.375"
      rpy="0 0 0" />
    <parent
      link="base_link" />
    <child
      link="D70_Link" />
    <axis
      xyz="0 0 0" />
  </joint>
  <link
    name="D80_Link">
    <inertial>
      <origin
        xyz="-0.00420968396694932 0.315934399543538 0.22858610022314"
        rpy="0 0 0" />
      <mass
        value="3.78789832443311" />
      <inertia
        ixx="0.204756856591759"
        ixy="6.19005464511863E-07"
        ixz="-8.95258662126111E-06"
        iyy="0.0736979314918435"
        iyz="-4.234574061195E-06"
        izz="0.131170891818291" />
    </inertial>
    <visual>
      <origin
        xyz="0 0 0"
        rpy="0 0 0" />
      <geometry>
        <mesh
          filename="package://dual_arm_agv/meshes/D80_Link.STL" />
      </geometry>
      <material
        name="">
        <color
          rgba="0.647058823529412 0.619607843137255 0.588235294117647 1" />
      </material>
    </visual>
    <collision>
      <origin
        xyz="0 0 0"
        rpy="0 0 0" />
      <geometry>
        <mesh
          filename="package://dual_arm_agv/meshes/D80_Link.STL" />
      </geometry>
    </collision>
  </link>
  <joint
    name="D80_Joint"
    type="fixed">
    <origin
      xyz="-0.37 -0.3035 0.375"
      rpy="0 0 0" />
    <parent
      link="base_link" />
    <child
      link="D80_Link" />
    <axis
      xyz="0 0 0" />
  </joint>
  <link
    name="D90_Link">
    <inertial>
      <origin
        xyz="0 0 0"
        rpy="0 0 0" />
      <mass
        value="0" />
      <inertia
        ixx="0"
        ixy="0"
        ixz="0"
        iyy="0"
        iyz="0"
        izz="0" />
    </inertial>
    <visual>
      <origin
        xyz="0 0 0"
        rpy="0 0 0" />
      <geometry>
        <mesh
          filename="package://dual_arm_agv/meshes/D90_Link.STL" />
      </geometry>
      <material
        name="">
        <color
          rgba="1 1 1 1" />
      </material>
    </visual>
    <collision>
      <origin
        xyz="0 0 0"
        rpy="0 0 0" />
      <geometry>
        <mesh
          filename="package://dual_arm_agv/meshes/D90_Link.STL" />
      </geometry>
    </collision>
  </link>
  <joint
    name="D90_Joint"
    type="fixed">
    <origin
      xyz="0.221 -0.59 0.375"
      rpy="0 0 0" />
    <parent
      link="base_link" />
    <child
      link="D90_Link" />
    <axis
      xyz="0 0 0" />
  </joint>
</robot>
